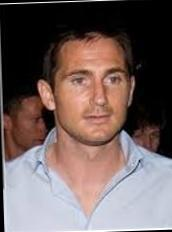Drunk: (59, 41, 126, 140)
